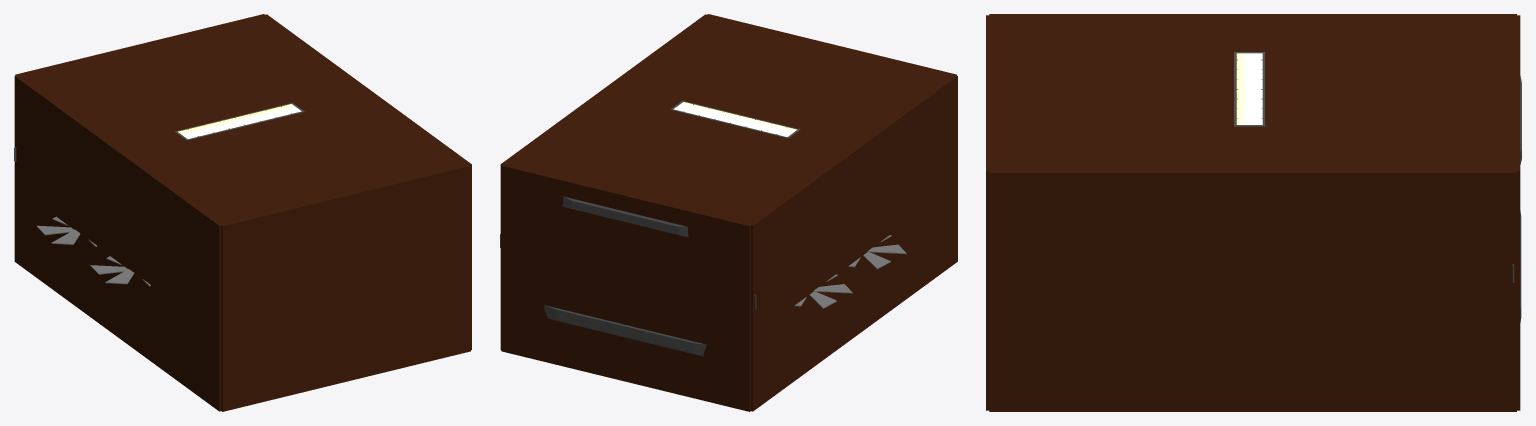
The model's file is game_room.glb.
3 views of the same model, side by side, from view 1: azimuth 30°, elevation 25°; view 2: azimuth 150°, elevation 25°; view 3: azimuth 270°, elevation 25° (orthographic). The views are drawn at different scales.
Parts seen in each view (by area): view 1: Plane.005, Cube.002, Cube, Cylinder, Cube.003, Plane.003, Plane.006; view 2: Plane.005, Cube.001, Cube, Cube.042, Cube.041, Cylinder, Cube.003, Plane.006, Plane.003; view 3: Cube.003, Plane.005, Cylinder, Cube.001, Cube.002, Cube.
Part boxes in pixels (bbox=[...]): Plane.005: bbox=[17, 14, 469, 224]; Cube.002: bbox=[221, 164, 470, 411]; Cube: bbox=[14, 75, 222, 411]; Cylinder: bbox=[178, 104, 301, 138]; Cube.003: bbox=[266, 14, 471, 349]; Plane.003: bbox=[90, 256, 150, 286]; Plane.006: bbox=[36, 216, 97, 246]; Plane.005: bbox=[503, 14, 955, 224]; Cube.001: bbox=[501, 164, 750, 411]; Cube: bbox=[749, 75, 957, 411]; Cube.042: bbox=[544, 305, 706, 356]; Cube.041: bbox=[562, 196, 688, 237]; Cylinder: bbox=[673, 102, 796, 136]; Cube.003: bbox=[500, 14, 706, 349]; Plane.006: bbox=[794, 274, 852, 308]; Plane.003: bbox=[848, 235, 906, 269]; Cube.003: bbox=[989, 170, 1516, 411]; Plane.005: bbox=[989, 14, 1516, 170]; Cylinder: bbox=[1236, 53, 1262, 124]; Cube.001: bbox=[1514, 15, 1520, 410]; Cube.002: bbox=[986, 15, 991, 410]; Cube: bbox=[989, 14, 1516, 14].
Bounding box in the file's own units: 16.11 × 10.15 × 20.29.
